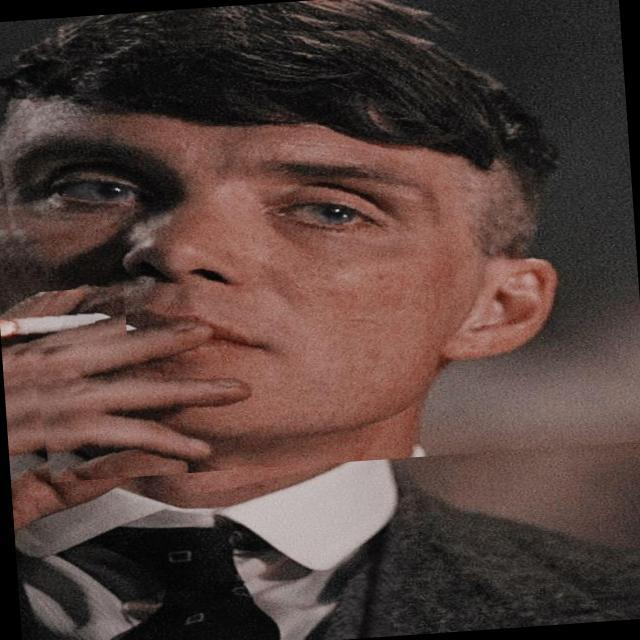cigarette: (0, 285, 127, 352)
